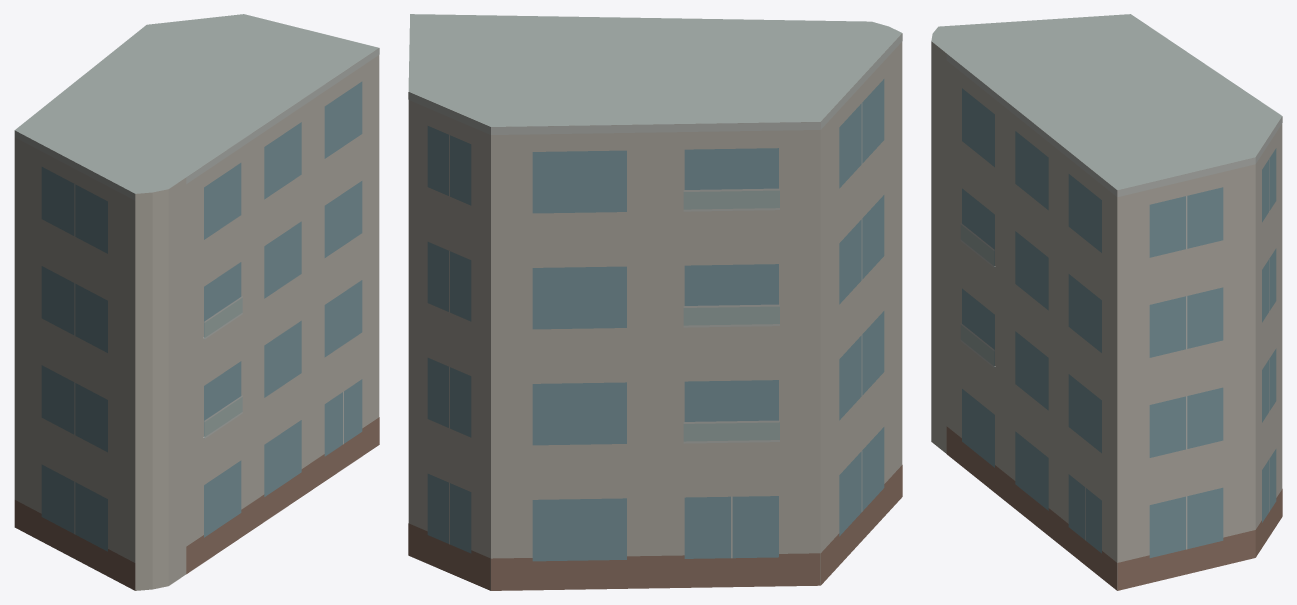
The model's file is survey-upis-32516506.glb.
3 views of the same model, side by side, from view 1: azimuth 30°, elevation 25°; view 2: azimuth 150°, elevation 25°; view 3: azimuth 270°, elevation 25° (orthographic). The views are drawn at different scales.
Parts seen in each view (by area): view 1: survey-upis-32516506.tmp; view 2: survey-upis-32516506.tmp; view 3: survey-upis-32516506.tmp.
Boxes of the visible parts, left/top/right/bottom form: survey-upis-32516506.tmp: left=14, top=14, right=379, bottom=590; survey-upis-32516506.tmp: left=408, top=14, right=902, bottom=590; survey-upis-32516506.tmp: left=931, top=14, right=1282, bottom=590.
Size of the model in its own units: 13.22 by 14 by 11.13.
